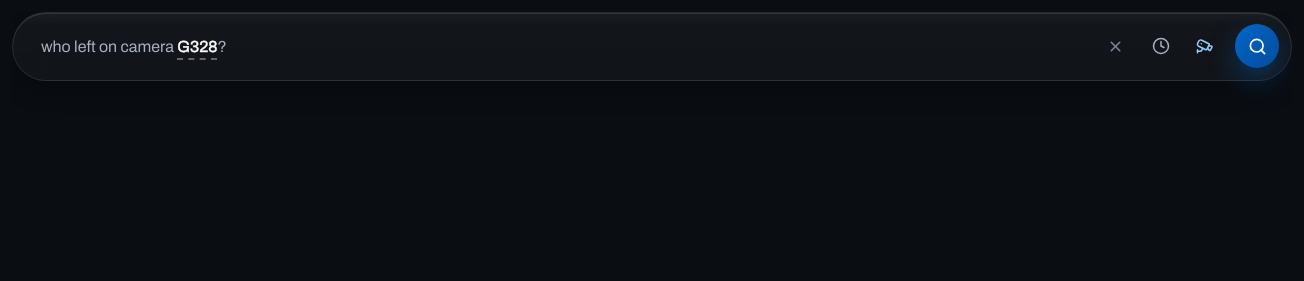
Test: QueryField › lists the indexed cameras, marking the ones the query already names
Click the button named "Choose cameras": (1205, 46) [1183,24,1227,68]
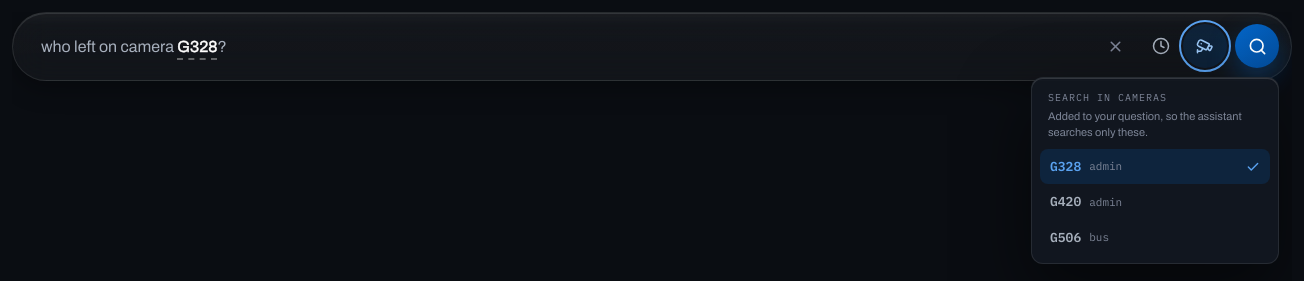
Expected: the button "G506 bus" is shown, [1040,220,1270,255]
